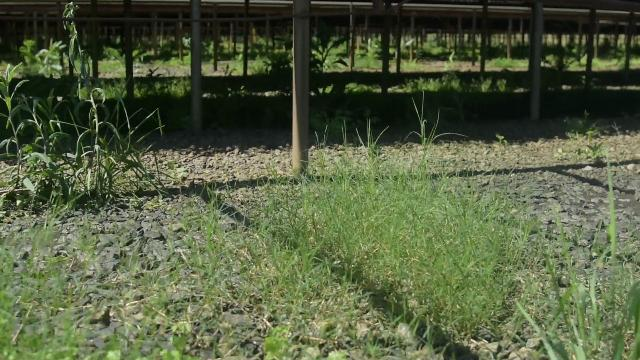MalezaMontesDelPlata: (0, 0, 180, 202), (265, 173, 410, 321), (406, 186, 538, 331), (182, 177, 222, 333), (556, 110, 622, 171)
